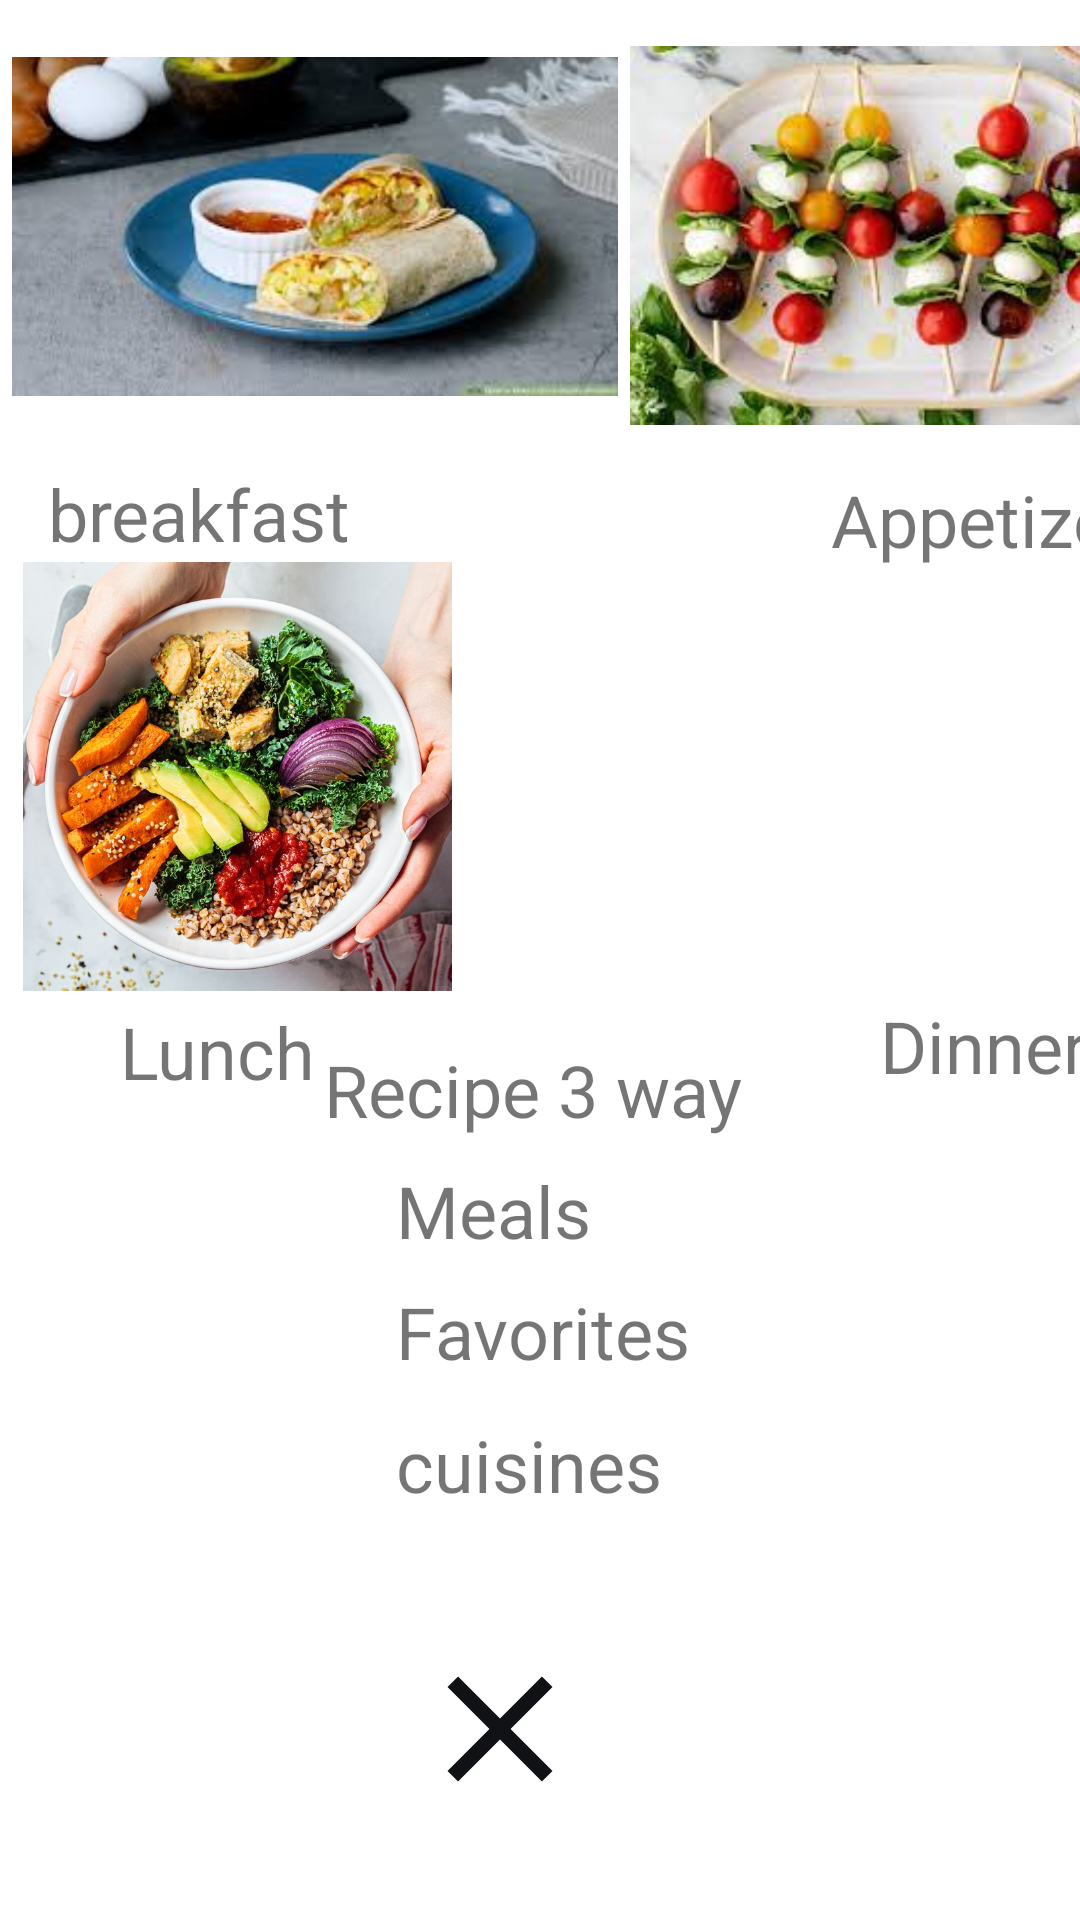

Icon bounding boxes for this 1080px x 1920px phone screenshot, format (x1, y1, x2, y2):
close: (447, 1676, 553, 1782)
